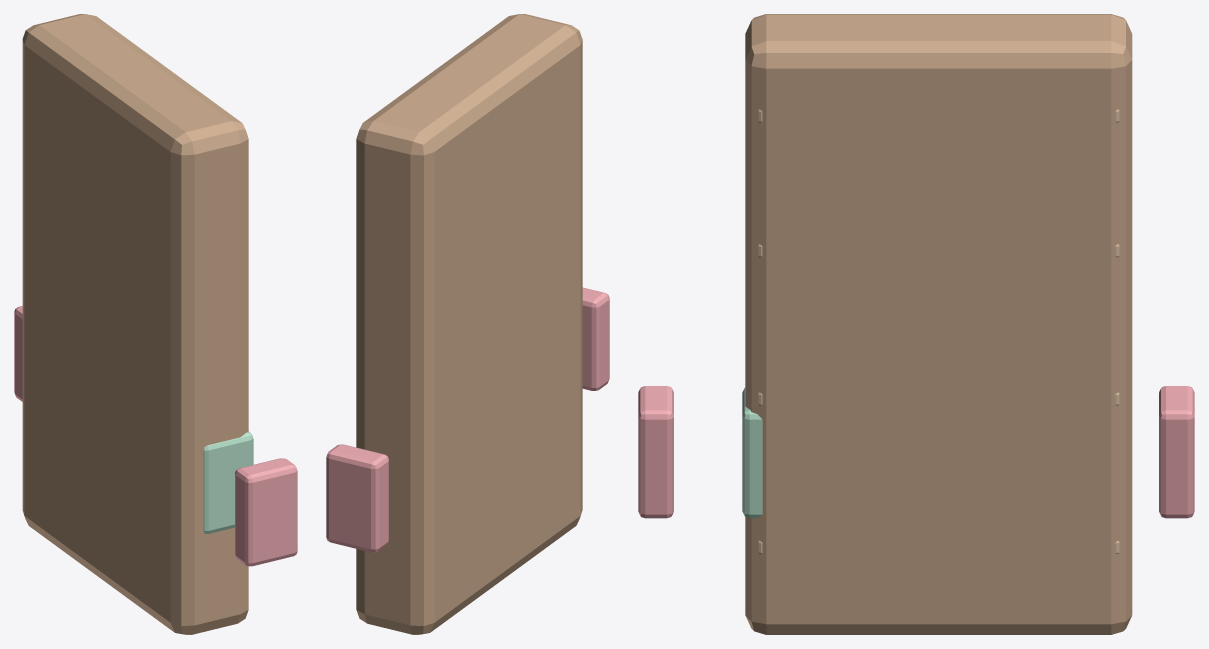
The model's file is kit_bookcase.glb.
3 renders of one model, left to right at view 1: azimuth 30°, elevation 25°; view 2: azimuth 150°, elevation 25°; view 3: azimuth 270°, elevation 25°, orthographic. The views are drawn at different scales.
Visible parts, largest first — view 1: kit_bookcase.001; view 2: kit_bookcase.001; view 3: kit_bookcase.001.
Boxes of the visible parts, x1,y1,x2,y2 form: kit_bookcase.001: (14,14,297,634); kit_bookcase.001: (326,14,609,634); kit_bookcase.001: (638,14,1194,634).
Size of the model in its own units: 0.35 by 2.2 by 1.87.
